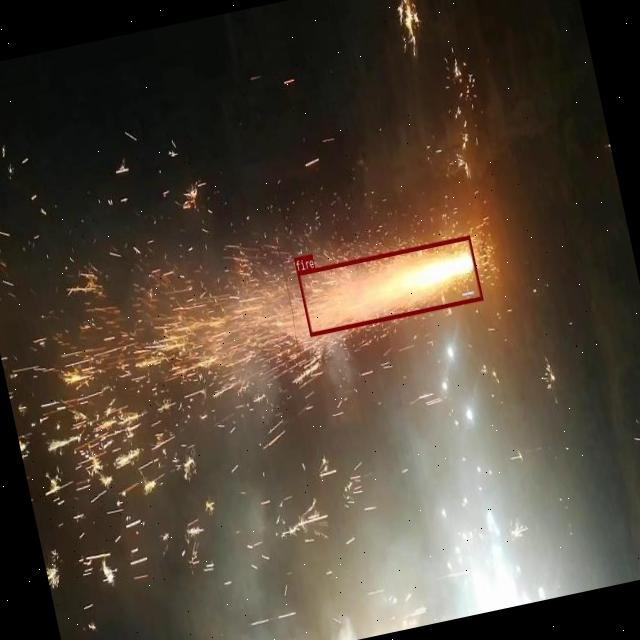fire: (296, 234, 482, 336)
